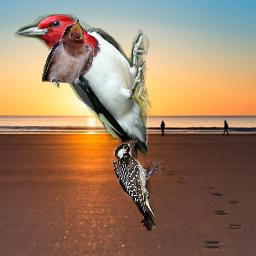Swallow: (42, 19, 94, 88)
Woodpecker: (13, 14, 155, 164), (108, 136, 169, 231)
